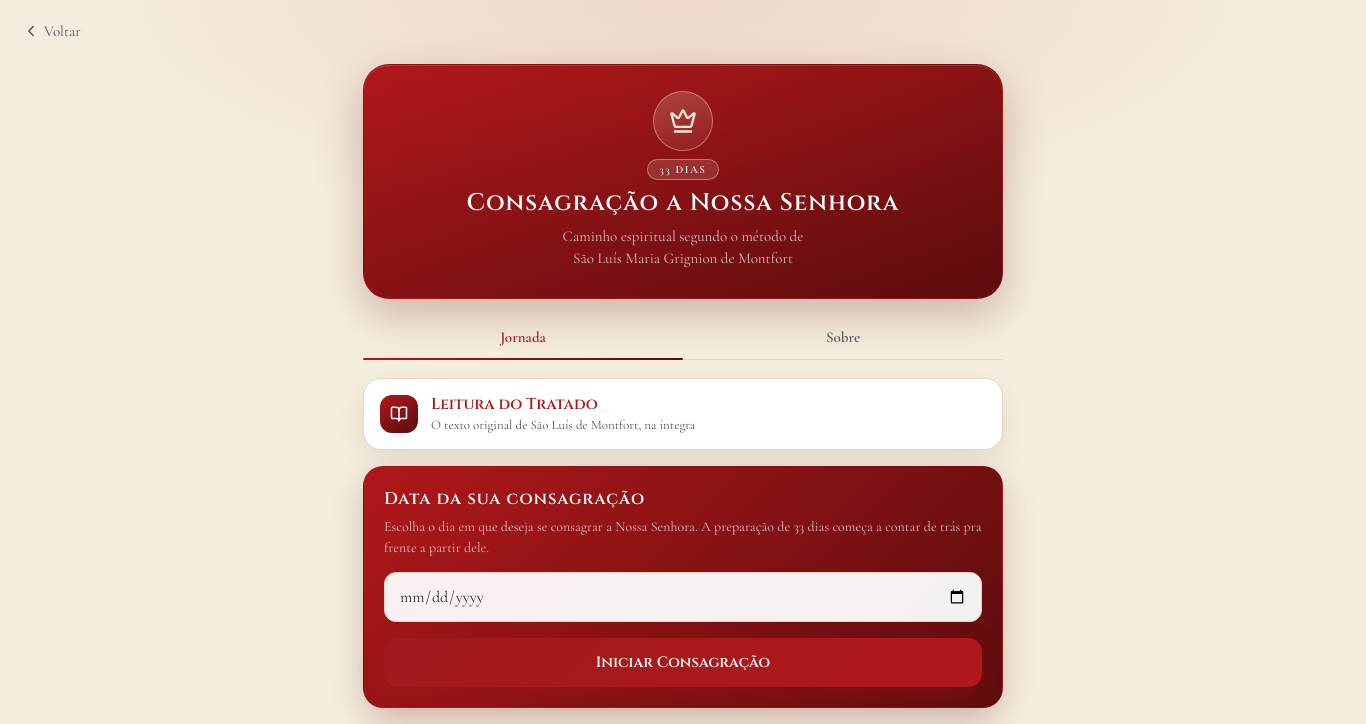
it: ConsecrationHome › switches to the Sobre tab
This screenshot has width=1366, height=724.
Expected: the heading "Data da sua consagração" is shown, [384,487,645,510]
What coordinates should you click on to do the following:
click the tab "Sobre"
I would click on:
 (843, 338)
Its box is [683,316,1003,358].
(page scrolled)
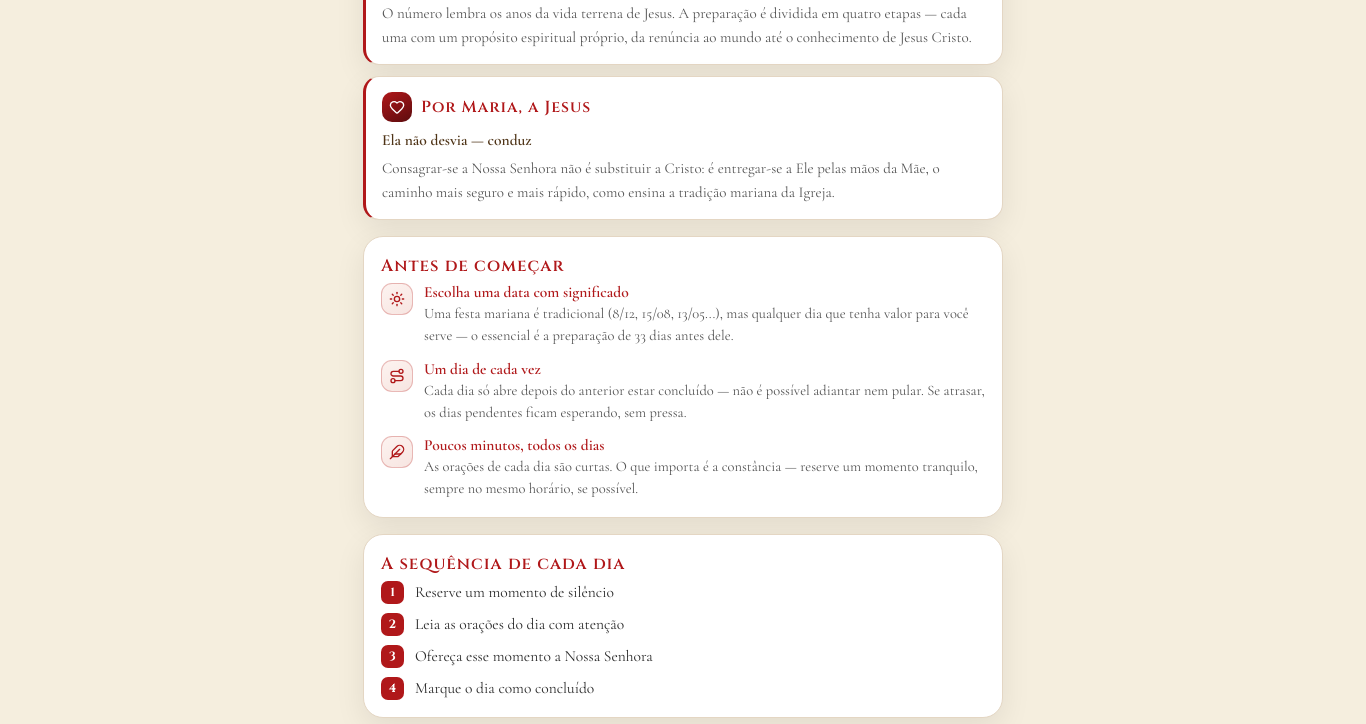
Expected: the heading "A sequência de cada dia" is shown, [381,552,625,575]
